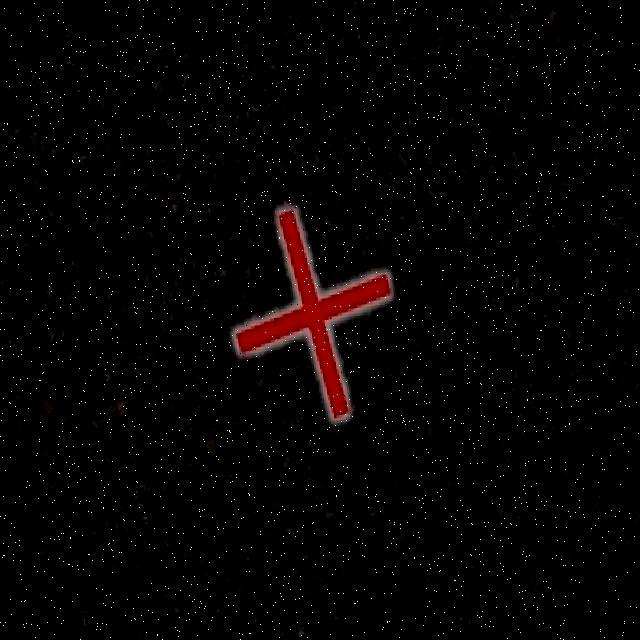x_marker: (220, 199, 402, 427)
